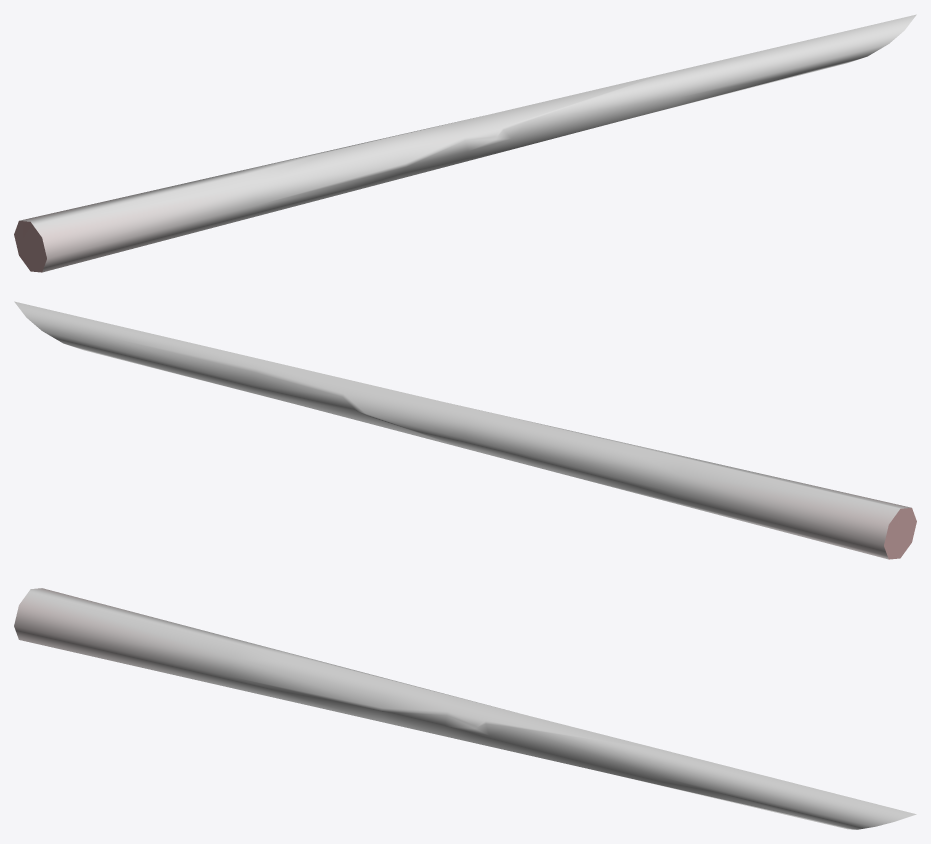
Rendered from SM_WEP_Eff_D63NJ2_A_01.glb.
3 renders of one model, top to bottom at view 1: azimuth 30°, elevation 25°; view 2: azimuth 150°, elevation 25°; view 3: azimuth 330°, elevation 25°, orthographic.
Parts seen in each view (by area): view 1: SM_WEP_Eff_D63NJ2_A_01; view 2: SM_WEP_Eff_D63NJ2_A_01; view 3: SM_WEP_Eff_D63NJ2_A_01.
Boxes of the visible parts, left/top/right/bottom form: SM_WEP_Eff_D63NJ2_A_01: left=14, top=14, right=916, bottom=272; SM_WEP_Eff_D63NJ2_A_01: left=14, top=301, right=916, bottom=559; SM_WEP_Eff_D63NJ2_A_01: left=14, top=588, right=916, bottom=829.
Size of the model in its own units: 0.4706 by 0.0252 by 0.0305.
